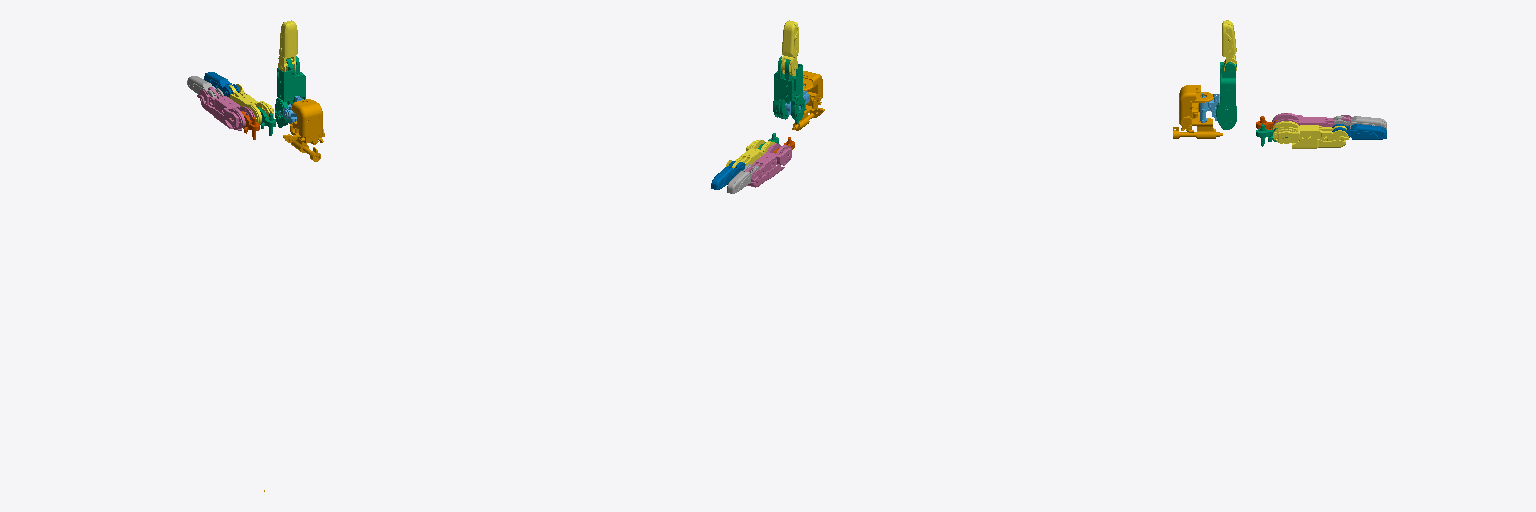
The robot description file, URDF, robot "hand_robot":
<?xml version="1.0" ?>

<robot name="hand_robot">

  <link name="base_link">
    <visual>
      <origin rpy="0 0 0" xyz="0 0 -0.5"/>
      <geometry>
        <box size="0.001 0.001 0.001"/>
      </geometry>
    </visual>
    <collision>
      <origin rpy="0 0 0" xyz="0 0 -0.5"/>
      <geometry>
        <box size="0.001 0.001 0.001"/>
      </geometry>
    </collision>
    <inertial>
      <mass value="1.0"/>
      <inertia ixx="10" ixy="0" ixz="0" iyy="10" iyz="0" izz="10"/>
    </inertial>
  </link>
  <joint name="hand_joint" type="fixed">
    <origin rpy="0 0 -1.57" xyz="0 -0.08 -0.01"/>
    <parent link="base_link"/>
    <child link="hand_base_link"/>
  </joint>

  <!-- Base link -->
  <link name="hand_base_link">
    <visual>
      <origin rpy="0 0 0" xyz="0 0 0"/>
      <geometry>
        <mesh filename="package://wbr_description/meshes/hand/R_hand.STL" scale="0.001 0.001 0.001"/>
      </geometry>
      <material name="black">
        <color rgba="0.7 0.7 0.7 1"/>
      </material>
    </visual>
    <collision>
      <origin rpy="0 0 0" xyz="0 0 0"/>
      <geometry>
        <mesh filename="package://wbr_description/meshes/hand/R_hand.stl" scale="0.001 0.001 0.001"/>
      </geometry>
    </collision>
    <inertial>
      <origin rpy="0 0 0" xyz="0 0 0"/>
      <mass value="0.25"/>
      <inertia ixx="10" ixy="0" ixz="0" iyy="10" iyz="0" izz="10"/>
    </inertial>
  </link>

  <!-- Index finger -->
  <link name="index_finger_1">
    <visual>
      <origin rpy="0 0 0" xyz="0 0 0"/>
      <geometry>
        <mesh filename="package://wbr_description/meshes/hand/R_first_finger_F3.STL" scale="0.0015 0.001 0.001"/>
      </geometry>
    </visual>
    <collision>
      <origin rpy="0 0 0" xyz="0 0 0"/>
      <geometry>
        <mesh filename="package://wbr_description/meshes/hand/R_first_finger_F3.stl" scale="0.0015 0.001 0.001"/>
      </geometry>
    </collision>
    <inertial>
      <origin rpy="0 0 0" xyz="0 0 0"/>
      <mass value="0.05"/>
      <inertia ixx="10" ixy="0" ixz="0" iyy="10" iyz="0" izz="10"/>
    </inertial>
  </link>

  <joint name="index_joint_1" type="revolute">
    <parent link="hand_base_link"/>
    <child link="index_finger_1"/>
    <origin rpy="3.14 0 0" xyz="-0.076 0.0067 0.0175"/>
    <axis xyz="0 0 1"/>
    <limit lower="-0.174" upper="1.57" effort="1.0" velocity="1.0"/>
  </joint>

  <link name="index_finger_2">
    <visual>
      <origin rpy="0 0 0" xyz="0 0 0"/>
      <geometry>
        <mesh filename="package://wbr_description/meshes/hand/R_first_finger_F2.STL" scale="0.001 0.0015 0.001"/>
      </geometry>
    </visual>
    <collision>
      <origin rpy="0 0 0" xyz="0 0 0"/>
      <geometry>
        <mesh filename="package://wbr_description/meshes/hand/R_first_finger_F2.stl" scale="0.001 0.0015 0.001"/>
      </geometry>
    </collision>
    <inertial>
      <origin rpy="0 0 0" xyz="0 0 0"/>
      <mass value="0.03"/>
      <inertia ixx="10" ixy="0" ixz="0" iyy="10" iyz="0" izz="10"/>
    </inertial>
  </link>

  <joint name="index_joint_2" type="revolute">
    <parent link="index_finger_1"/>
    <child link="index_finger_2"/>
    <origin rpy="0 1.57 -1.57" xyz="-0.03 0 0"/>
    <axis xyz="0 0 1"/>
    <limit lower="0" upper="1.57" effort="1.0" velocity="1.0"/>
  </joint>

  <link name="index_finger_3">
    <visual>
      <origin rpy="0 0 0" xyz="0 0 0"/>
      <geometry>
        <mesh filename="package://wbr_description/meshes/hand/R_first_finger_F1.STL" scale="0.001 0.0015 0.001"/>
      </geometry>
    </visual>
    <collision>
      <origin rpy="0 0 0" xyz="0 0 0"/>
      <geometry>
        <mesh filename="package://wbr_description/meshes/hand/R_first_finger_F1.stl" scale="0.001 0.0015 0.001"/>
      </geometry>
    </collision>
    <inertial>
      <origin rpy="0 0 0" xyz="0 0 0"/>
      <mass value="0.03"/>
      <inertia ixx="10" ixy="0" ixz="0" iyy="10" iyz="0" izz="10"/>
    </inertial>
  </link>

  <joint name="index_joint_3" type="revolute">
    <parent link="index_finger_2"/>
    <child link="index_finger_3"/>
    <origin rpy="0 0 0" xyz="0.003 -0.06825 0"/>
    <axis xyz="0 0 1"/>
    <limit lower="0" upper="1.57" effort="1.0" velocity="1.0"/>
  </joint>

  <!-- Middle finger -->
  <link name="middle_finger_1">
    <visual>
      <origin rpy="0 0 0" xyz="0 0 0"/>
      <geometry>
        <mesh filename="package://wbr_description/meshes/hand/R_middle_finger_F3.STL" scale="0.0015 0.001 0.001"/>
      </geometry>
    </visual>
    <collision>
      <origin rpy="0 0 0" xyz="0 0 0"/>
      <geometry>
        <mesh filename="package://wbr_description/meshes/hand/R_middle_finger_F3.stl" scale="0.0015 0.001 0.001"/>
      </geometry>
    </collision>
    <inertial>
      <origin rpy="0 0 0" xyz="0 0 0"/>
      <mass value="0.05"/>
      <inertia ixx="10" ixy="0" ixz="0" iyy="10" iyz="0" izz="10"/>
    </inertial>
  </link>

  <joint name="middle_joint_1" type="revolute">
    <parent link="hand_base_link"/>
    <child link="middle_finger_1"/>
    <origin rpy="3.14 0 0" xyz="-0.076 -0.0173 0.0175"/>
    <axis xyz="0 0 1"/>
    <limit lower="-1.57" upper="0.174" effort="1.0" velocity="1.0"/>
  </joint>

  <link name="middle_finger_2">
    <visual>
      <origin rpy="0 0 0" xyz="0 0 0"/>
      <geometry>
        <mesh filename="package://wbr_description/meshes/hand/R_middle_finger_F2.STL" scale="0.001 0.0015 0.001"/>
      </geometry>
    </visual>
    <collision>
      <origin rpy="0 0 0" xyz="0 0 0"/>
      <geometry>
        <mesh filename="package://wbr_description/meshes/hand/R_middle_finger_F2.stl" scale="0.001 0.0015 0.001"/>
      </geometry>
    </collision>
    <inertial>
      <origin rpy="0 0 0" xyz="0 0 0"/>
      <mass value="0.03"/>
      <inertia ixx="10" ixy="0" ixz="0" iyy="10" iyz="0" izz="10"/>
    </inertial>
  </link>

  <joint name="middle_joint_2" type="revolute">
    <parent link="middle_finger_1"/>
    <child link="middle_finger_2"/>
    <origin rpy="0 1.57 -1.57" xyz="-0.03 0 0"/>
    <axis xyz="0 0 1"/>
    <limit lower="0" upper="1.57" effort="1.0" velocity="1.0"/>
  </joint>

  <link name="middle_finger_3">
    <visual>
      <origin rpy="0 0 0" xyz="0 0 0"/>
      <geometry>
        <mesh filename="package://wbr_description/meshes/hand/R_middle_finger_F1.STL" scale="0.001 0.0015 0.001"/>
      </geometry>
    </visual>
    <collision>
      <origin rpy="0 0 0" xyz="0 0 0"/>
      <geometry>
        <mesh filename="package://wbr_description/meshes/hand/R_middle_finger_F1.stl" scale="0.001 0.0015 0.001"/>
      </geometry>
    </collision>
    <inertial>
      <origin rpy="0 0 0" xyz="0 0 0"/>
      <mass value="0.03"/>
      <inertia ixx="10" ixy="0" ixz="0" iyy="10" iyz="0" izz="10"/>
    </inertial>
  </link>

  <joint name="middle_joint_3" type="revolute">
    <parent link="middle_finger_2"/>
    <child link="middle_finger_3"/>
    <origin rpy="0 0 0" xyz="0.003 -0.06825 0"/>
    <axis xyz="0 0 1"/>
    <limit lower="0" upper="1.57" effort="1.0" velocity="1.0"/>
  </joint>

  <!-- Thumb -->
  <link name="thumb_1">
    <visual>
      <origin rpy="0 0 3.14" xyz="0 0 0"/>
      <geometry>
        <mesh filename="package://wbr_description/meshes/hand/R_thumb_F4.STL" scale="0.001 0.001 0.001"/>
      </geometry>
    </visual>
    <collision>
      <origin rpy="0 0 3.14" xyz="0 0 0"/>
      <geometry>
        <mesh filename="package://wbr_description/meshes/hand/R_thumb_F4.stl" scale="0.001 0.001 0.001"/>
      </geometry>
    </collision>
    <inertial>
      <origin rpy="0 0 0" xyz="0 0 0"/>
      <mass value="0.05"/>
      <inertia ixx="10" ixy="0" ixz="0" iyy="10" iyz="0" izz="10"/>
    </inertial>
  </link>

  <joint name="thumb_joint_1" type="revolute">
    <parent link="hand_base_link"/>
    <child link="thumb_1"/>
    <origin rpy="-1.57 0 -1.57" xyz="0 0.0067 0.015"/>
    <axis xyz="0 0 1"/>
    <limit lower="-1.57" upper="0" effort="1.0" velocity="1.0"/>
  </joint>

  <link name="thumb_2">
    <visual>
      <origin rpy="0 0 -1.57" xyz="0 0 0"/>
      <geometry>
        <mesh filename="package://wbr_description/meshes/hand/R_thumb_F3.STL" scale="0.001 0.001 0.001"/>
      </geometry>
    </visual>
    <collision>
      <origin rpy="0 0 -1.57" xyz="0 0 0"/>
      <geometry>
        <mesh filename="package://wbr_description/meshes/hand/R_thumb_F3.stl" scale="0.001 0.001 0.001"/>
      </geometry>
    </collision>
    <inertial>
      <origin rpy="0 0 0" xyz="0 0 0"/>
      <mass value="0.03"/>
      <inertia ixx="10" ixy="0" ixz="0" iyy="10" iyz="0" izz="10"/>
    </inertial>
  </link>

  <joint name="thumb_joint_2" type="revolute">
    <parent link="thumb_1"/>
    <child link="thumb_2"/>
    <origin rpy="0 1.57 -1.57" xyz="0 -0.03575 0"/>
    <axis xyz="0 0 1"/>
    <limit lower="-1.57" upper="1.57" effort="1.0" velocity="1.0"/>
  </joint>

  <link name="thumb_3">
    <visual>
      <origin rpy="0 0 0" xyz="0 0 0"/>
      <geometry>
        <mesh filename="package://wbr_description/meshes/hand/R_thumb_F2.STL" scale="0.001 0.0015 0.001"/>
      </geometry>
    </visual>
    <collision>
      <origin rpy="0 0 0" xyz="0 0 0"/>
      <geometry>
        <mesh filename="package://wbr_description/meshes/hand/R_thumb_F2.stl" scale="0.001 0.0015 0.001"/>
      </geometry>
    </collision>
    <inertial>
      <origin rpy="0 0 0" xyz="0 0 0"/>
      <mass value="0.03"/>
      <inertia ixx="10" ixy="0" ixz="0" iyy="10" iyz="0" izz="10"/>
    </inertial>
  </link>

  <joint name="thumb_joint_3" type="revolute">
    <parent link="thumb_2"/>
    <child link="thumb_3"/>
    <origin rpy="-1.57 0 0" xyz="0.03 0 0"/>
    <axis xyz="0 0 1"/>
    <limit lower="0" upper="1.57" effort="1.0" velocity="1.0"/>
  </joint>

  <link name="thumb_4">
    <visual>
      <origin rpy="0 0 0" xyz="0 0 0"/>
      <geometry>
        <mesh filename="package://wbr_description/meshes/hand/R_thumb_F1.STL" scale="0.001 0.0015 0.001"/>
      </geometry>
    </visual>
    <collision>
      <origin rpy="0 0 0" xyz="0 0 0"/>
      <geometry>
        <mesh filename="package://wbr_description/meshes/hand/R_thumb_F1.stl" scale="0.001 0.0015 0.001"/>
      </geometry>
    </collision>
    <inertial>
      <origin rpy="0 0 0" xyz="0 0 0"/>
      <mass value="0.03"/>
      <inertia ixx="10" ixy="0" ixz="0" iyy="10" iyz="0" izz="10"/>
    </inertial>
  </link>

  <joint name="thumb_joint_4" type="revolute">
    <parent link="thumb_3"/>
    <child link="thumb_4"/>
    <origin rpy="0 0 0" xyz="0.0045 -0.06 0"/>
    <axis xyz="0 0 1"/>
    <limit lower="0" upper="1.57" effort="1.0" velocity="1.0"/>
  </joint>
</robot>

--- Facts derived from the render (not from the file) ---
The picture shows the robot from 3 angles, left to right: view 1: azimuth 30°, elevation 25°; view 2: azimuth 150°, elevation 25°; view 3: azimuth 270°, elevation 25°; orthographic projection.
Robot: hand_robot — 12 links, 11 joints (10 revolute, 1 fixed); root link base_link; default pose: every joint at zero.
Visible links, largest first — view 1: thumb_1, thumb_3, middle_finger_2, thumb_4, index_finger_2; view 2: thumb_3, middle_finger_2, thumb_1, thumb_4; view 3: index_finger_2, thumb_1, thumb_3, index_finger_3, middle_finger_2, thumb_4.
Boxes of the visible links, <box> form: thumb_1: <box>283,99,324,161</box>; thumb_3: <box>275,56,305,127</box>; middle_finger_2: <box>197,87,254,130</box>; thumb_4: <box>278,20,297,72</box>; index_finger_2: <box>229,84,273,123</box>; thumb_3: <box>773,56,804,123</box>; middle_finger_2: <box>746,143,791,187</box>; thumb_1: <box>792,71,824,130</box>; thumb_4: <box>781,20,798,75</box>; index_finger_2: <box>1272,121,1348,148</box>; thumb_1: <box>1173,85,1222,138</box>; thumb_3: <box>1216,60,1236,129</box>; index_finger_3: <box>1332,124,1386,139</box>; middle_finger_2: <box>1272,113,1351,126</box>; thumb_4: <box>1222,20,1236,71</box>.
Bounding box of the posed robot: 0.0615 × 0.2736 × 0.664 m (x, y, z).
10 mesh visuals loaded from 11 distinct referenced files (10 binary STL); not drawn: 1 (reference not matched to a file when rendering).
